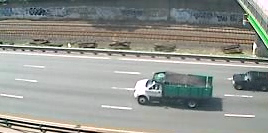car: (130, 69, 216, 109), (229, 68, 268, 94)
